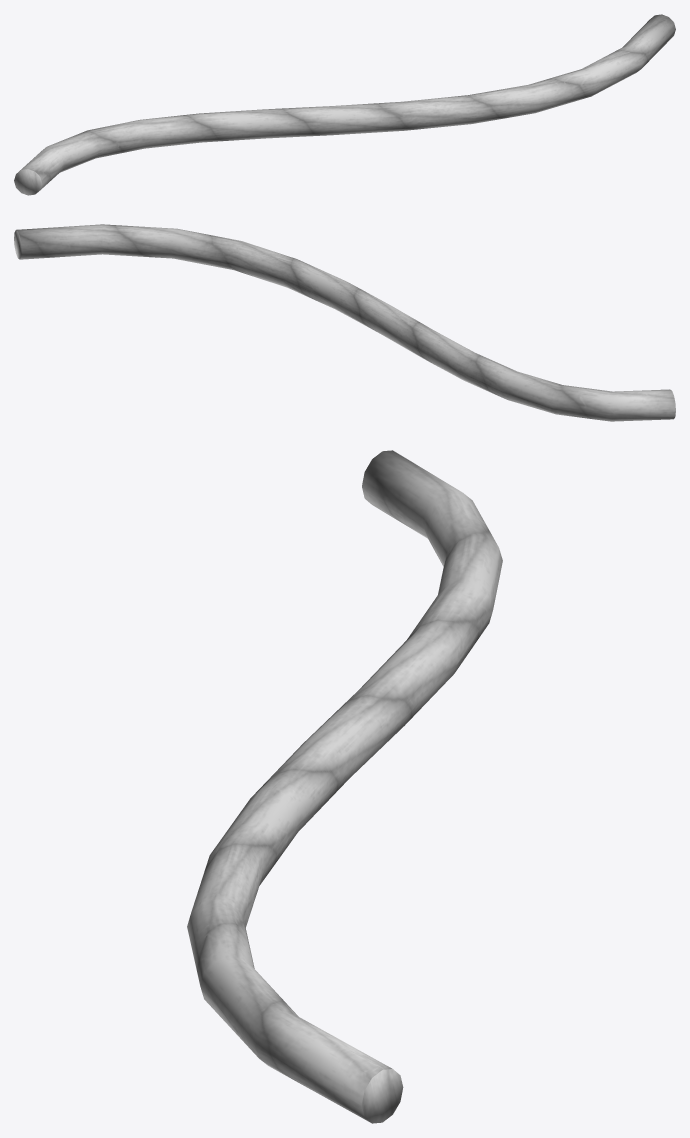
Rendered from WhiteRope.fbx.
3 renders of one model, top to bottom at view 1: azimuth 30°, elevation 25°; view 2: azimuth 150°, elevation 25°; view 3: azimuth 270°, elevation 25°, orthographic. The views are drawn at different scales.
Parts seen in each view (by area): view 1: WhiteRope; view 2: WhiteRope; view 3: WhiteRope.
Part boxes in pixels (x1=…): WhiteRope: x1=14, y1=14, x2=675, y2=195; WhiteRope: x1=14, y1=224, x2=675, y2=421; WhiteRope: x1=187, y1=450, x2=502, y2=1123.
Bounding box in the file's own units: 317 × 12.79 × 66.49.
Materials: 1 (1 with a texture image).
